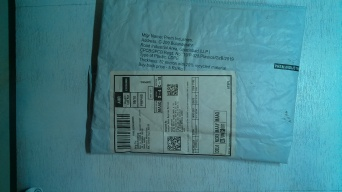a: (86, 1, 302, 167)
